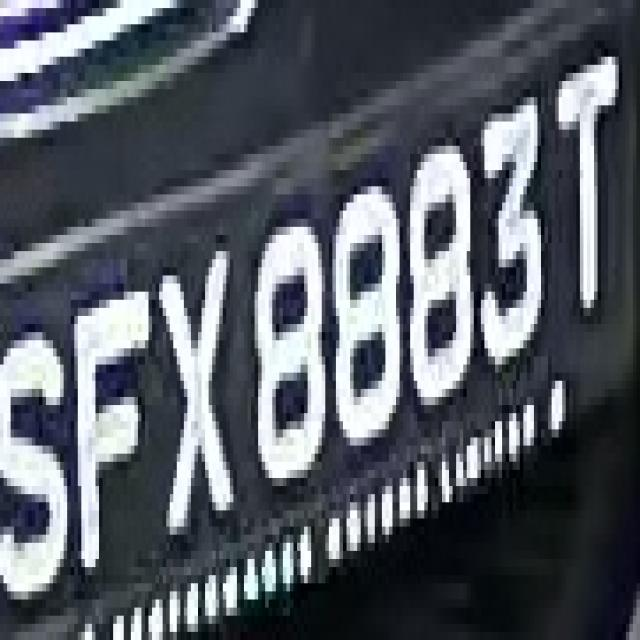3: (484, 89, 541, 373)
8: (255, 194, 332, 510), (325, 186, 410, 454), (403, 138, 477, 421)
F: (78, 259, 162, 575)
S: (14, 300, 67, 624)
T: (552, 49, 630, 324)
X: (148, 227, 230, 575)
